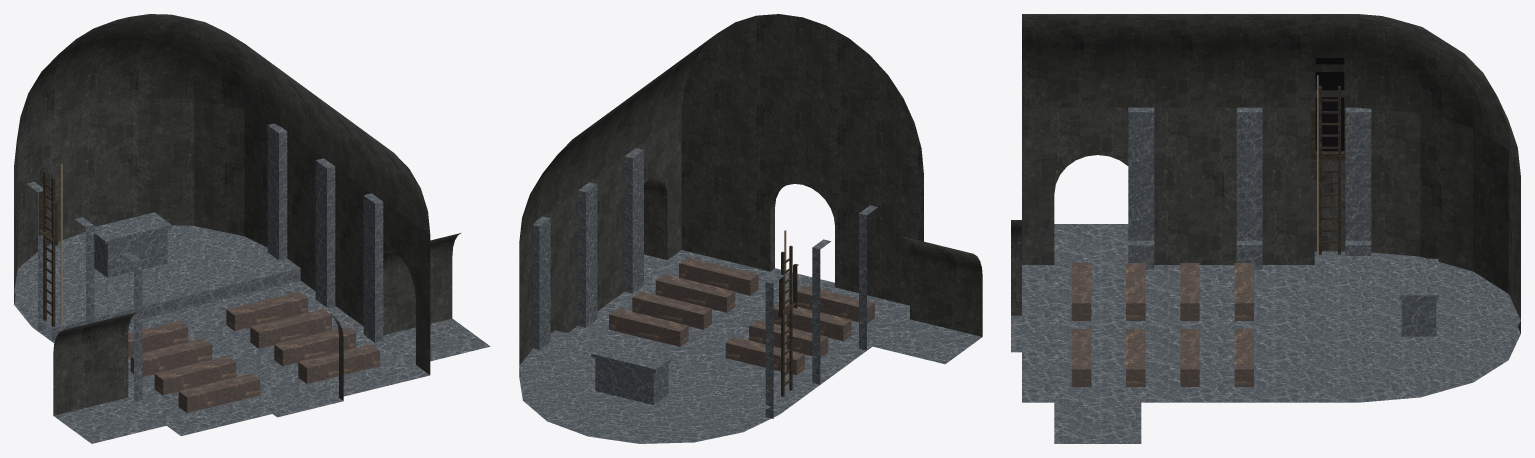
The model's file is gloaming-chapel.84af3c31.gltf.
3 views of the same model, side by side, from view 1: azimuth 30°, elevation 25°; view 2: azimuth 150°, elevation 25°; view 3: azimuth 270°, elevation 25° (orthographic). The views are drawn at different scales.
Parts seen in each view (by area): view 1: gloaming-chapel-mesh, gloaming-chapel-way-out; view 2: gloaming-chapel-mesh, gloaming-chapel-way-out; view 3: gloaming-chapel-mesh, gloaming-chapel-way-out.
Boxes of the visible parts, bbox=[...] form: gloaming-chapel-mesh: bbox=[14, 14, 490, 443]; gloaming-chapel-way-out: bbox=[37, 163, 62, 326]; gloaming-chapel-mesh: bbox=[519, 14, 982, 443]; gloaming-chapel-way-out: bbox=[778, 230, 798, 396]; gloaming-chapel-mesh: bbox=[1011, 14, 1520, 443]; gloaming-chapel-way-out: bbox=[1311, 58, 1345, 256].
Size of the model in its own units: 12 by 7.75 by 11.75.
6 materials, 4 textured.
